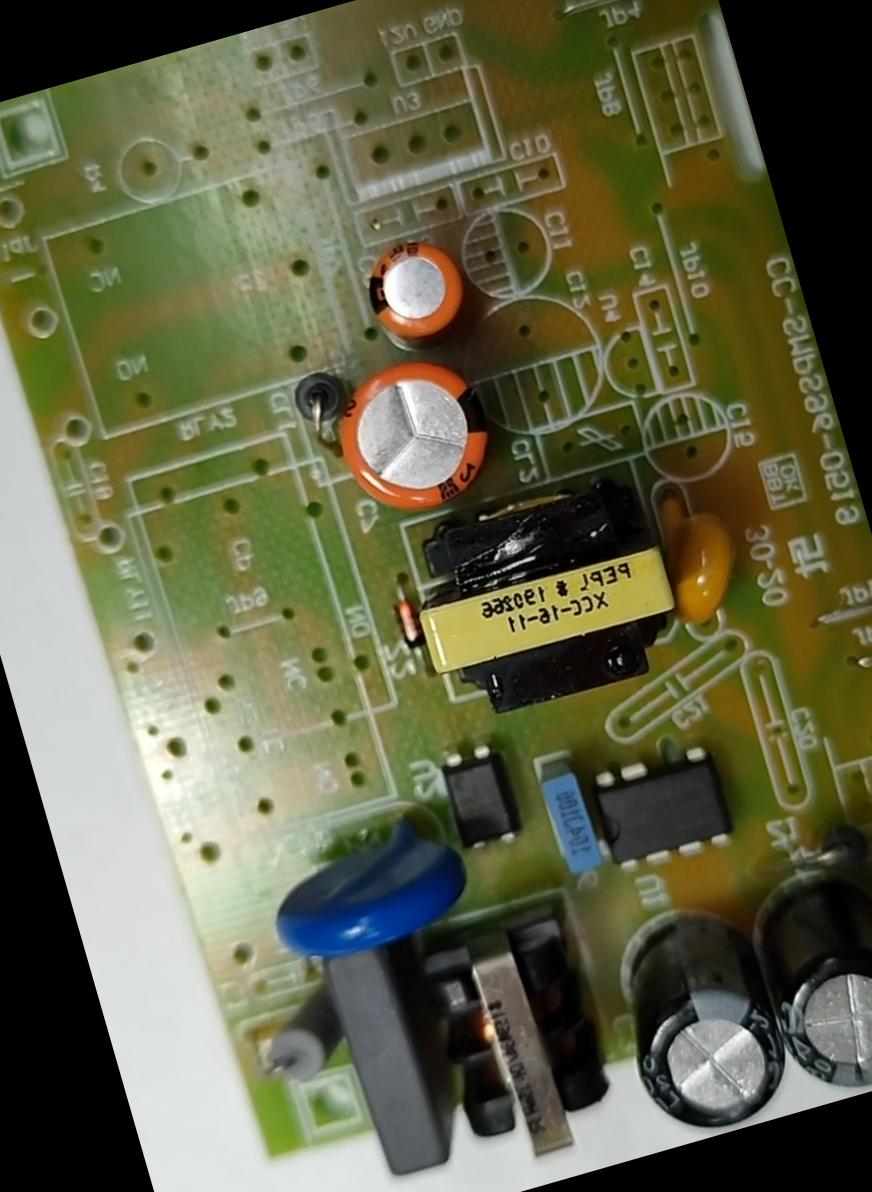Cap1: (314, 334, 512, 536)
Cap2: (348, 220, 490, 367)
Cap3: (595, 892, 806, 1152)
Cap4: (732, 841, 871, 1111)
MOSFET: (564, 725, 750, 889)
Mov: (240, 799, 499, 986)
Resistor: (246, 973, 362, 1094)
Transformer: (378, 444, 706, 734), (380, 880, 640, 1188)
